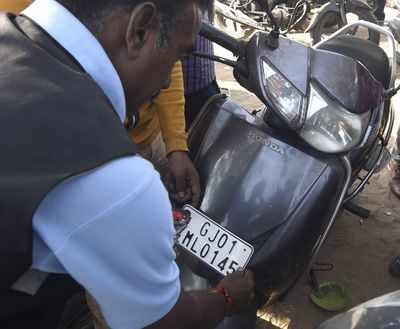doublelinenumberplate: (175, 204, 257, 277)
